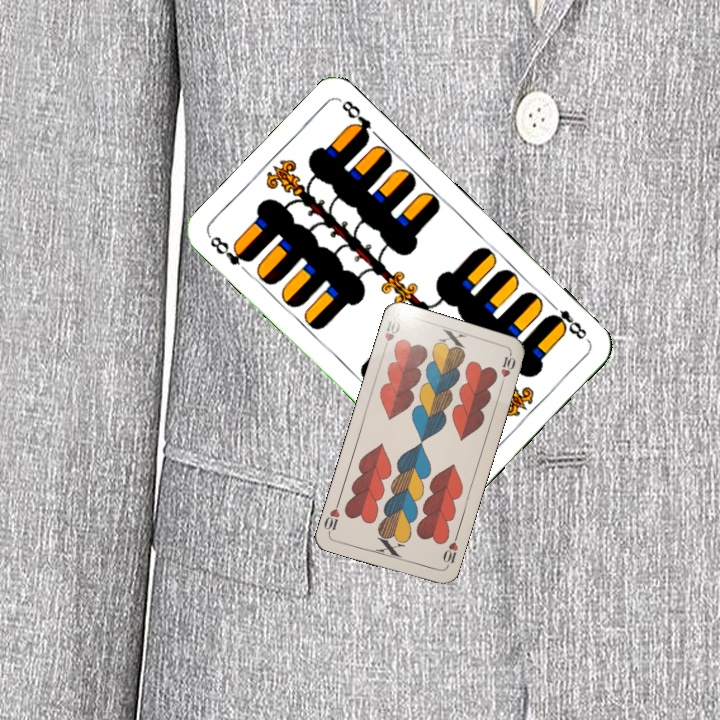E8: (544, 297, 590, 342), (205, 232, 255, 269)
H10: (379, 316, 403, 354), (439, 531, 461, 571)
